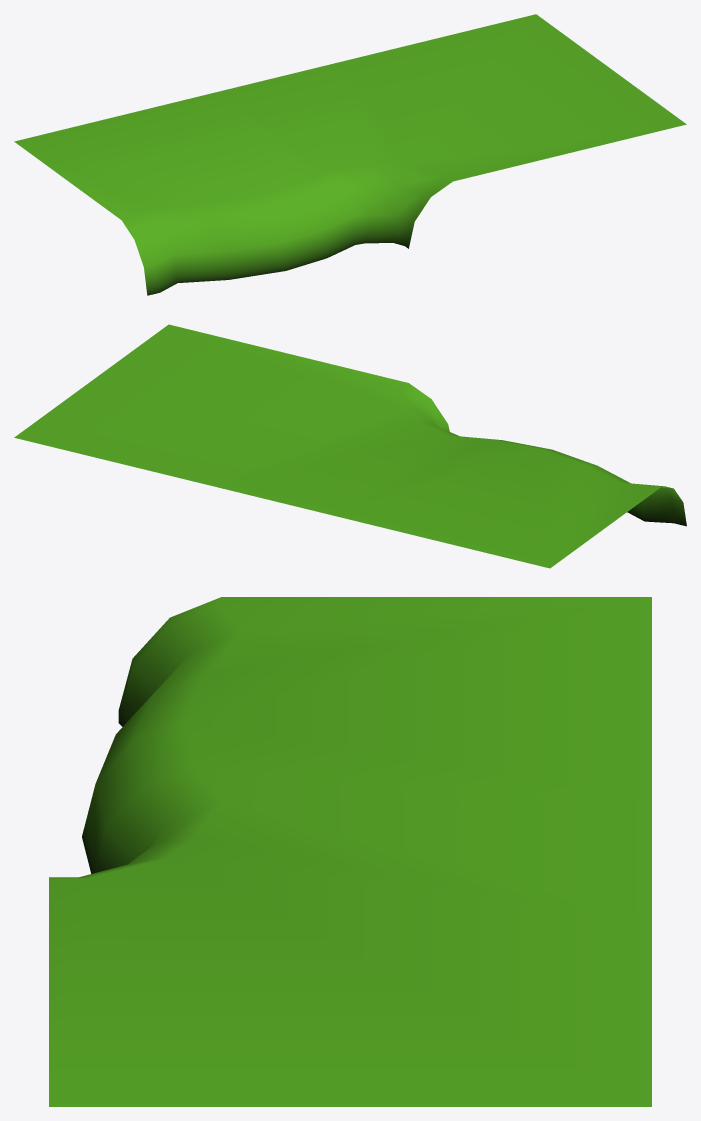
The model's file is Surface_PlatformCorner.fbx.
3 views of the same model, one above another, from view 1: azimuth 30°, elevation 25°; view 2: azimuth 150°, elevation 25°; view 3: azimuth 270°, elevation 25° (orthographic). The views are drawn at different scales.
Parts seen in each view (by area): view 1: Surface_PlatformCorner; view 2: Surface_PlatformCorner; view 3: Surface_PlatformCorner.
Boxes of the visible parts, bbox=[...] form: Surface_PlatformCorner: bbox=[14, 14, 686, 295]; Surface_PlatformCorner: bbox=[14, 324, 686, 568]; Surface_PlatformCorner: bbox=[49, 597, 651, 1106].
Bounding box in the file's own units: 4000 × 415 × 2000.
